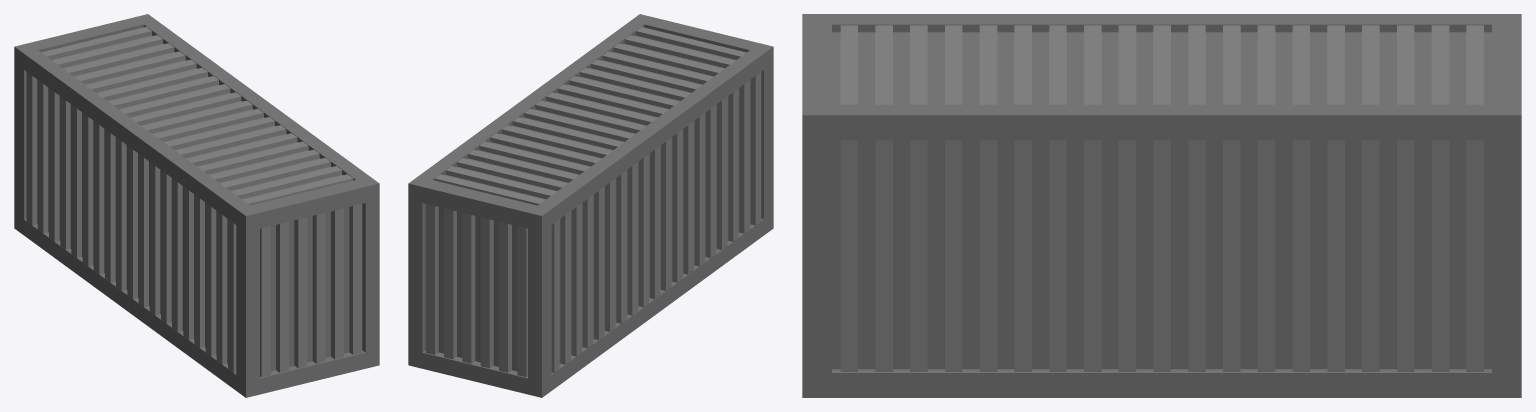
The model's file is Cargo_ship_01_Box3.fbx.
3 renders of one model, left to right at view 1: azimuth 30°, elevation 25°; view 2: azimuth 150°, elevation 25°; view 3: azimuth 270°, elevation 25°, orthographic. The views are drawn at different scales.
Visible parts, largest first — view 1: Cargo_ship_01_Box3; view 2: Cargo_ship_01_Box3; view 3: Cargo_ship_01_Box3.
Boxes of the visible parts, x1,y1,x2,y2 form: Cargo_ship_01_Box3: [14, 14, 379, 397]; Cargo_ship_01_Box3: [408, 14, 773, 397]; Cargo_ship_01_Box3: [802, 14, 1521, 397].
Bounding box in the file's own units: 200 × 260 × 600.
